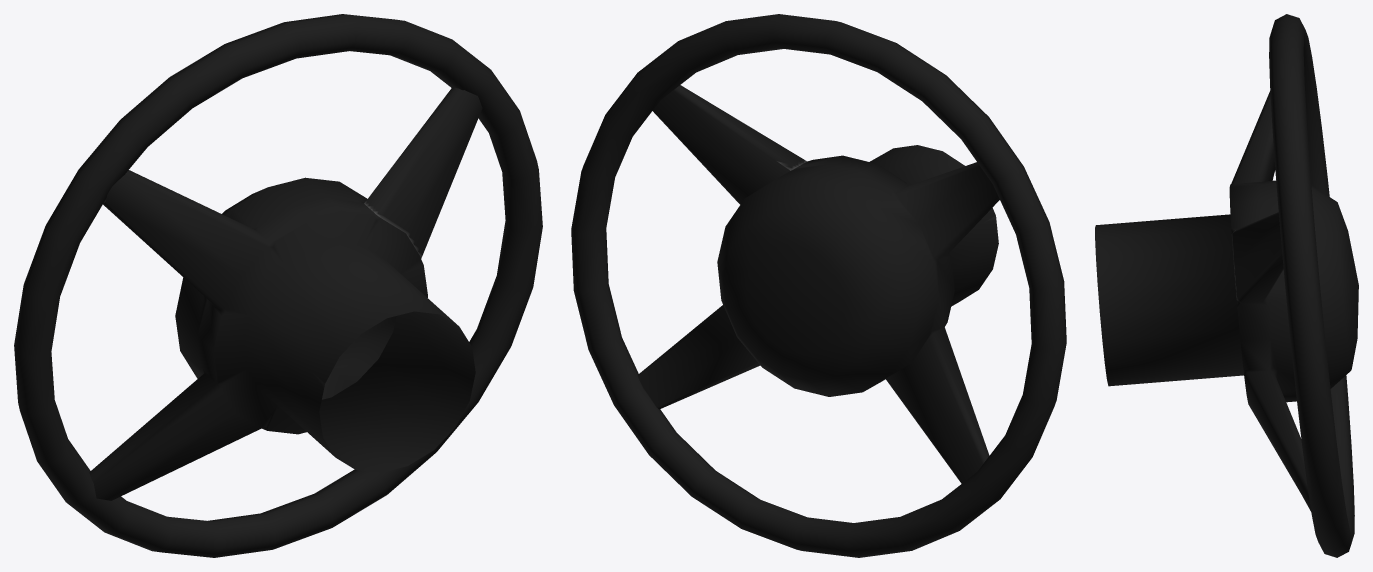
The model's file is DrivingWheel.FBX.
3 views of the same model, side by side, from view 1: azimuth 30°, elevation 25°; view 2: azimuth 150°, elevation 25°; view 3: azimuth 270°, elevation 25° (orthographic). The views are drawn at different scales.
Visible parts, largest first — view 1: Object001; view 2: Object001; view 3: Object001.
Boxes of the visible parts, <box> form: Object001: <box>14,14,542,557</box>; Object001: <box>571,14,1066,557</box>; Object001: <box>1095,14,1358,557</box>.
Bounding box in the file's own units: 31.36 × 31.19 × 15.16.
Materials: 1 (1 with a texture image).
